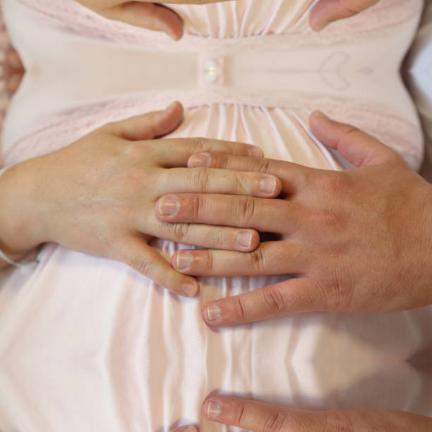Nail: (158, 195, 180, 216), (177, 250, 194, 270), (206, 303, 223, 322), (206, 400, 223, 419), (235, 230, 251, 247), (260, 176, 276, 193), (188, 154, 210, 166), (183, 282, 198, 297), (248, 145, 263, 156), (183, 425, 197, 432)
